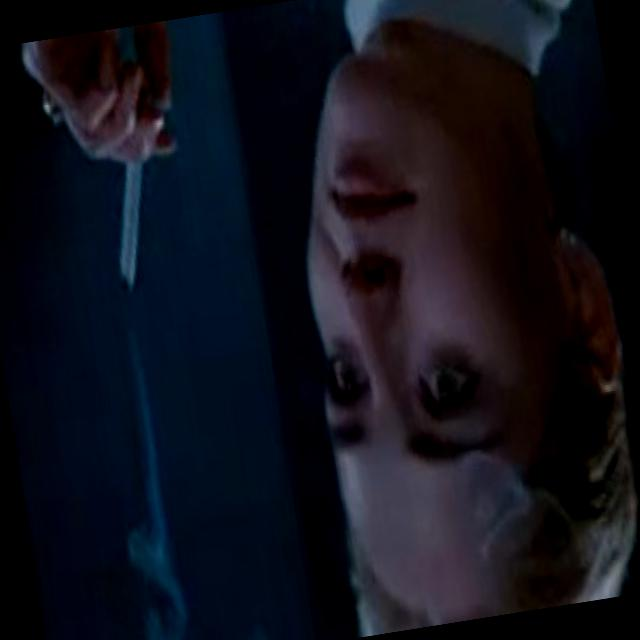smoke: (83, 109, 186, 315)
